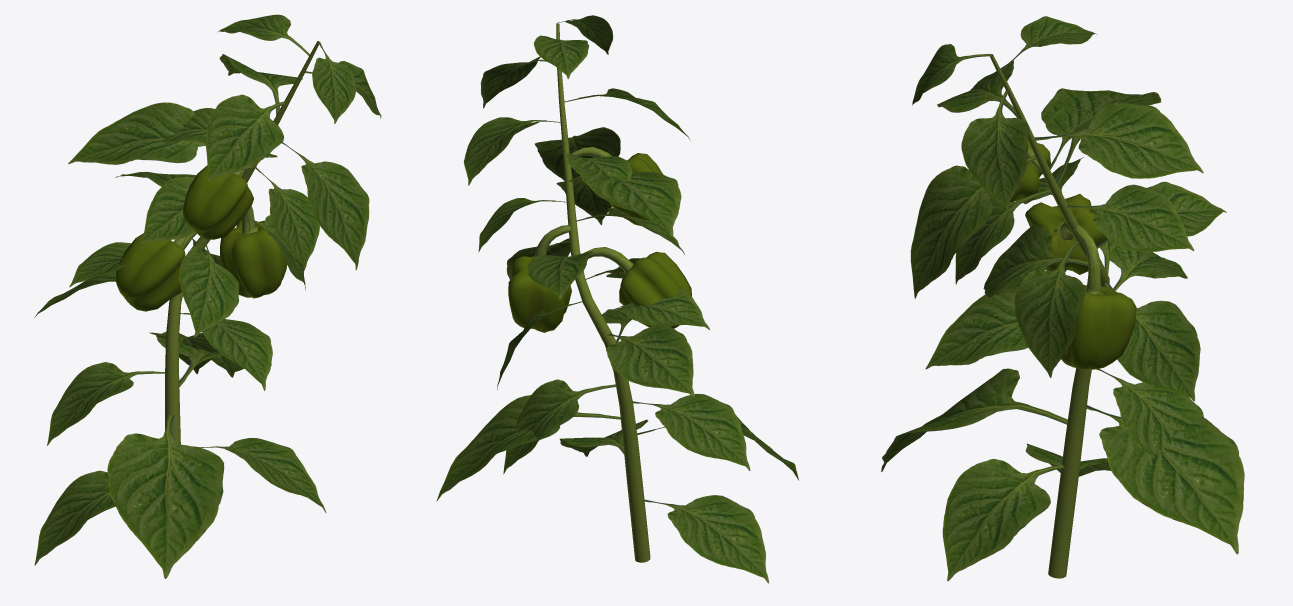
File: bellpepper_step8-transformed.glb
3 renders of one model, left to right at view 1: azimuth 30°, elevation 25°; view 2: azimuth 150°, elevation 25°; view 3: azimuth 270°, elevation 25°, orthographic. The views are drawn at different scales.
Parts seen in each view (by area): view 1: result7; view 2: result7; view 3: result7.
Boxes of the visible parts, left/top/right/bottom form: result7: left=34, top=14, right=381, bottom=578; result7: left=436, top=15, right=798, bottom=583; result7: left=881, top=16, right=1244, bottom=581.
Size of the model in its own units: 10.16 by 15.13 by 9.71.
Materials: 4 (4 with a texture image).
